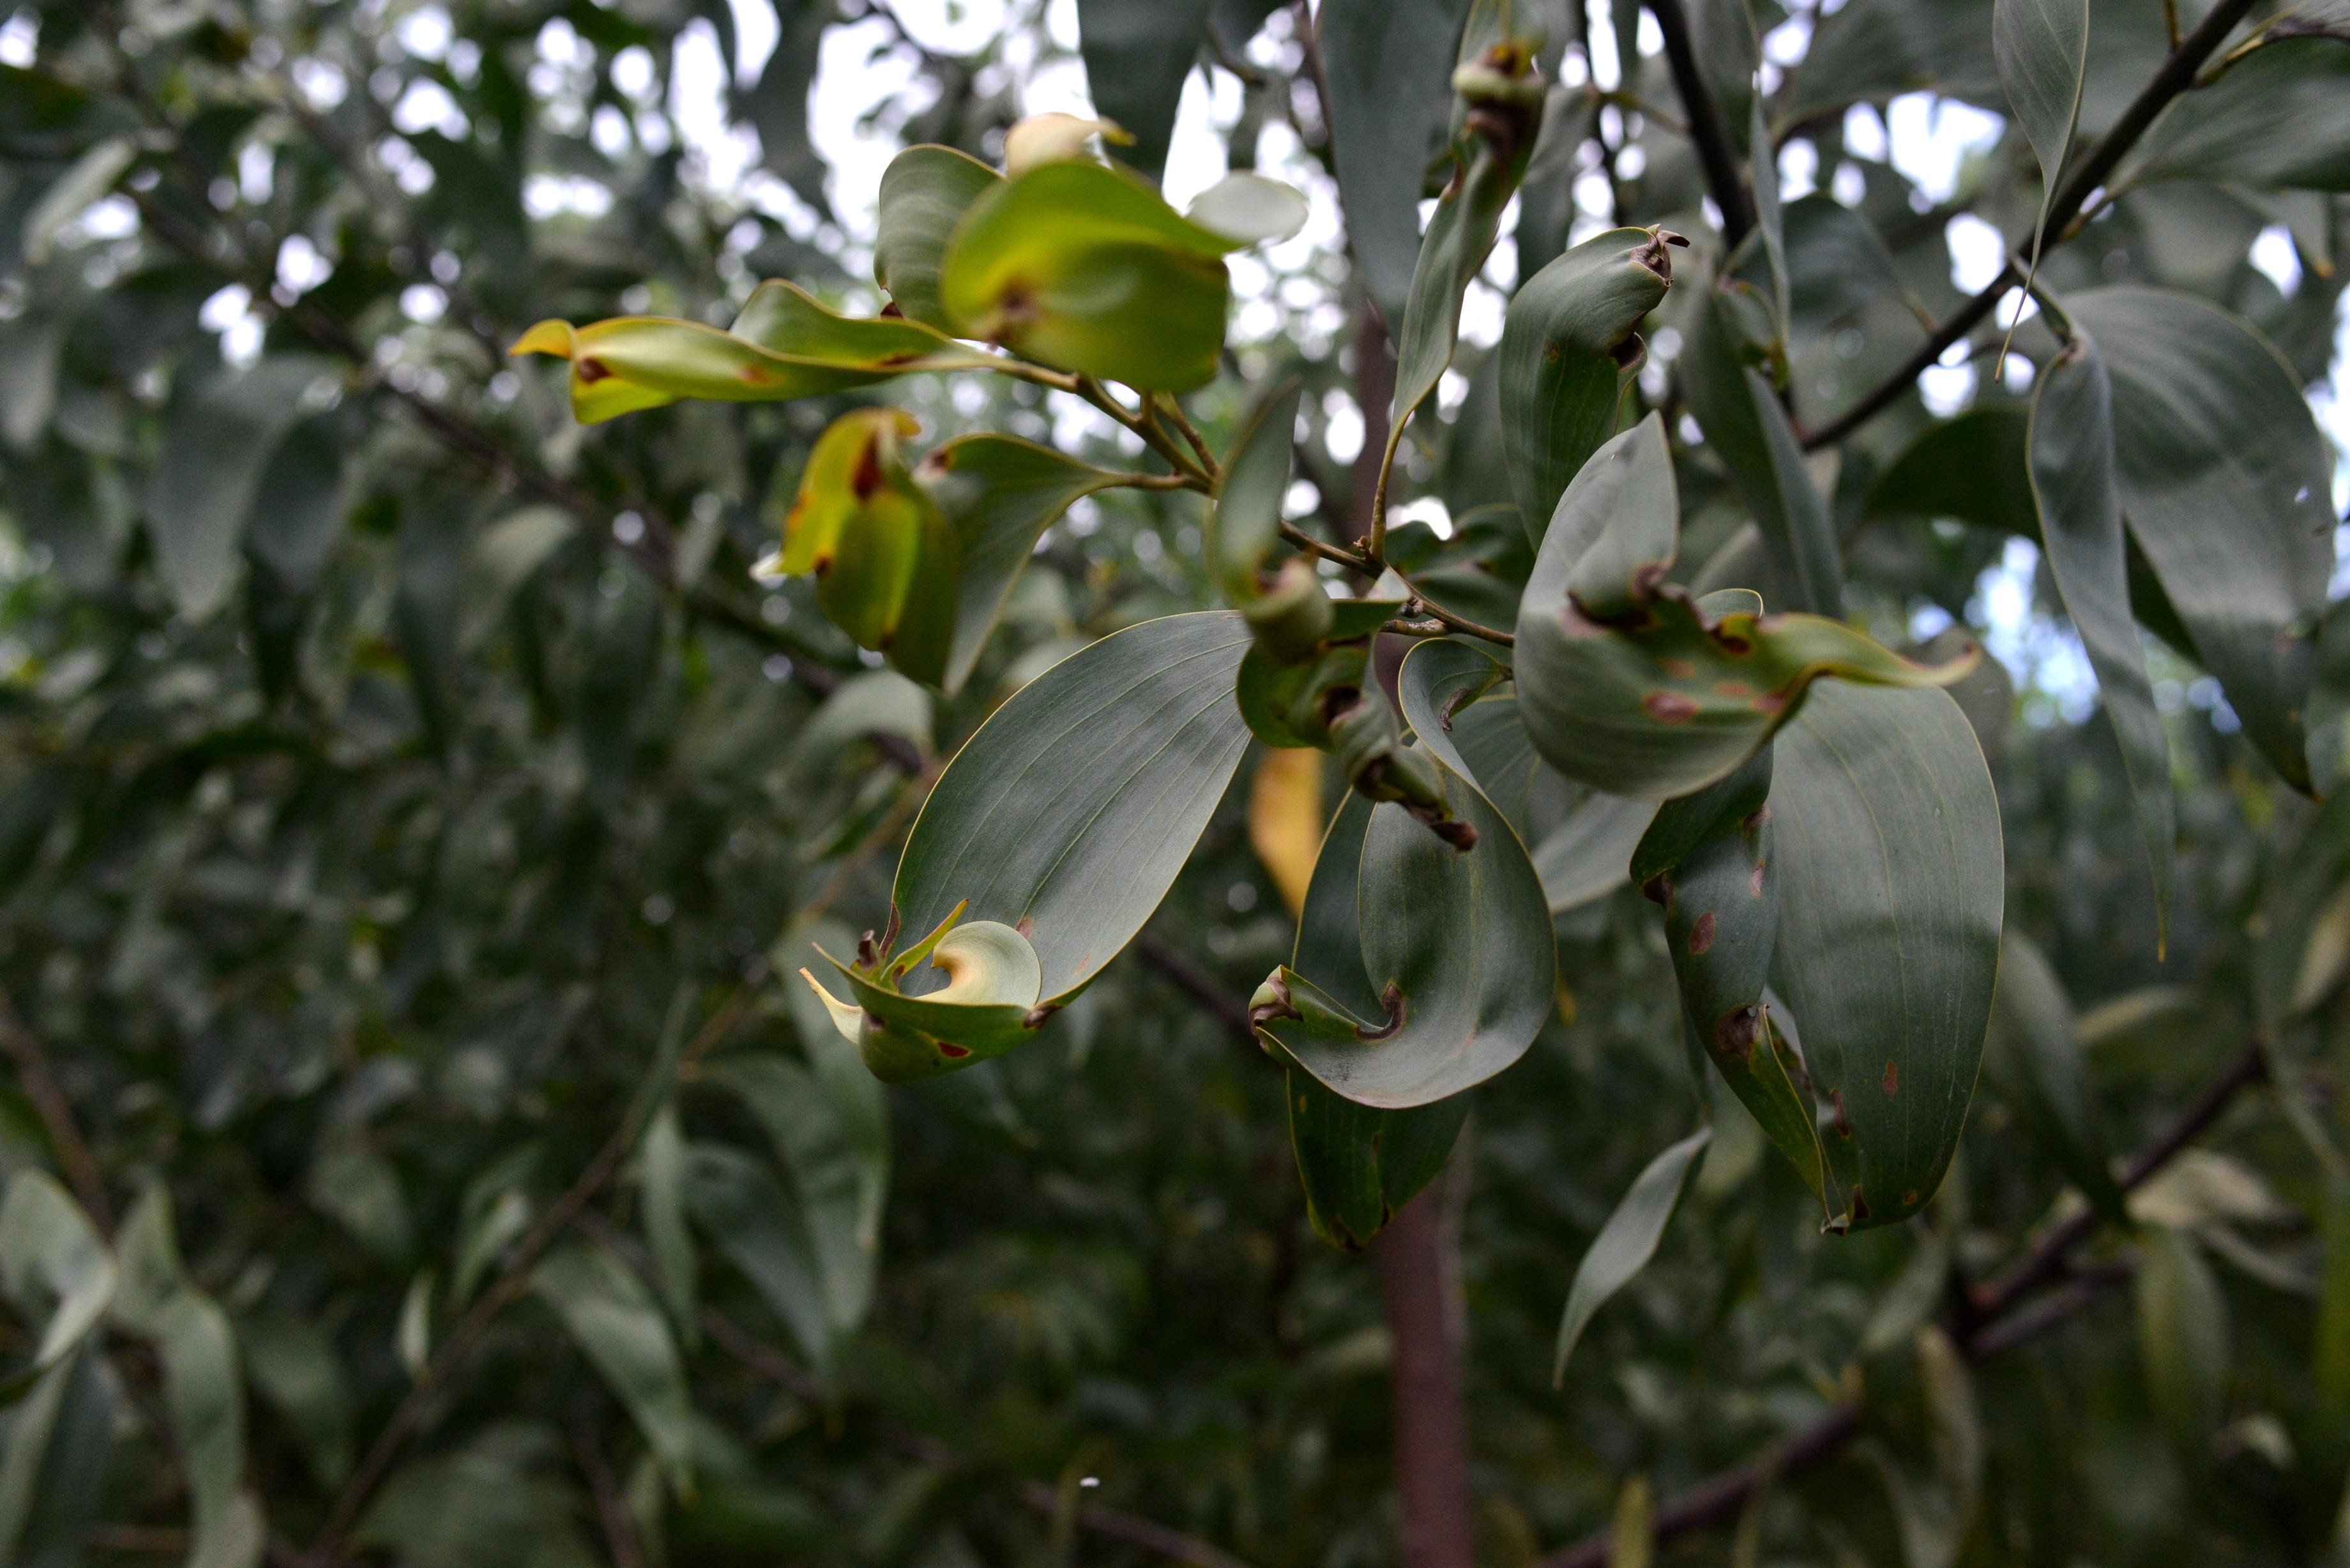Pasalora: (1451, 422, 2012, 786), (821, 679, 1225, 1111), (1648, 817, 2002, 1227), (882, 100, 1230, 395), (1258, 824, 1573, 1122), (758, 418, 1148, 656), (1246, 518, 1458, 822), (506, 294, 962, 418), (1382, 0, 1629, 184), (1508, 234, 1743, 416)
